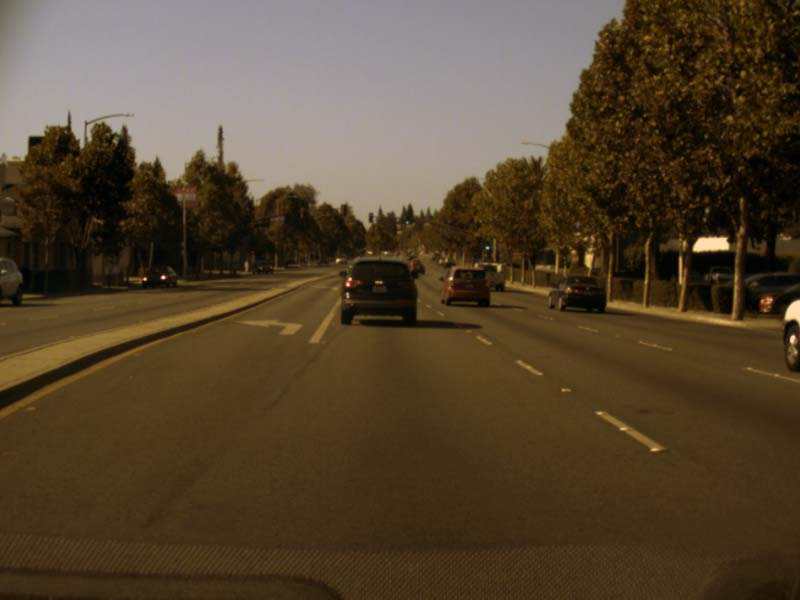Green: (484, 241, 491, 255), (405, 217, 410, 227)
